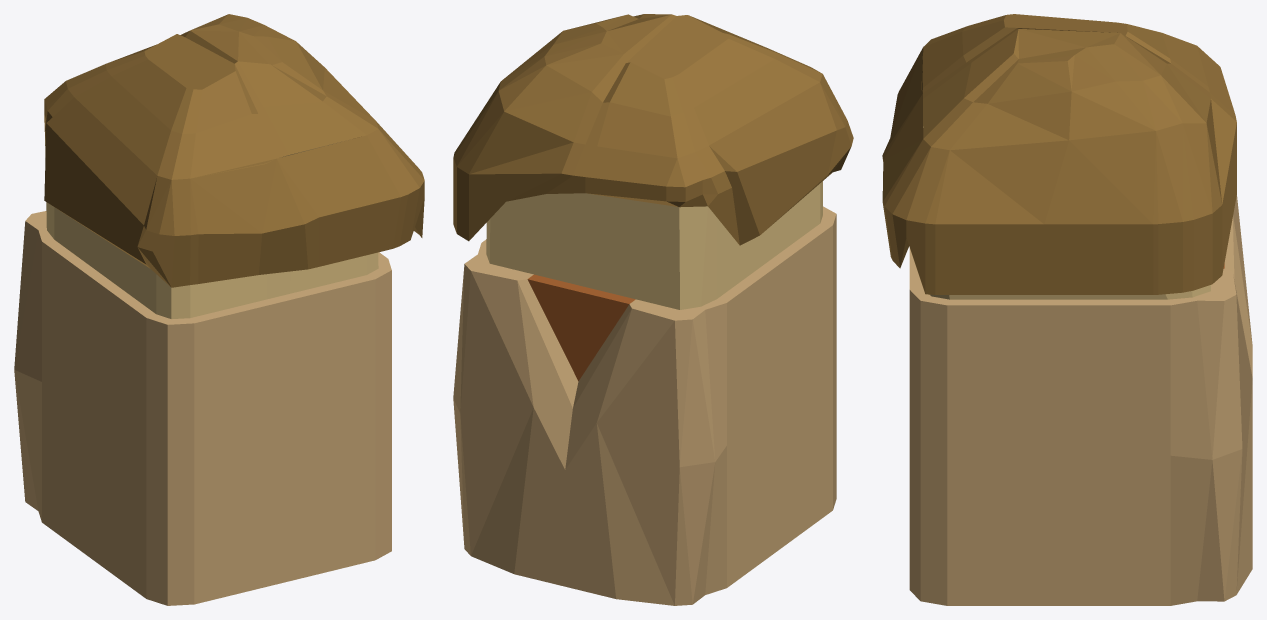
File: Obiwan.fbx
The picture shows the model from 3 angles, left to right: view 1: azimuth 30°, elevation 25°; view 2: azimuth 150°, elevation 25°; view 3: azimuth 270°, elevation 25°; orthographic projection. The views are drawn at different scales.
Parts seen in each view (by area): view 1: ObiwanMesh; view 2: ObiwanMesh; view 3: ObiwanMesh.
Part boxes in pixels (left/top/right/bottom): ObiwanMesh: left=14, top=14, right=424, bottom=605; ObiwanMesh: left=453, top=14, right=853, bottom=605; ObiwanMesh: left=882, top=14, right=1252, bottom=605.
Bounding box in the file's own units: 210 × 343 × 223.
